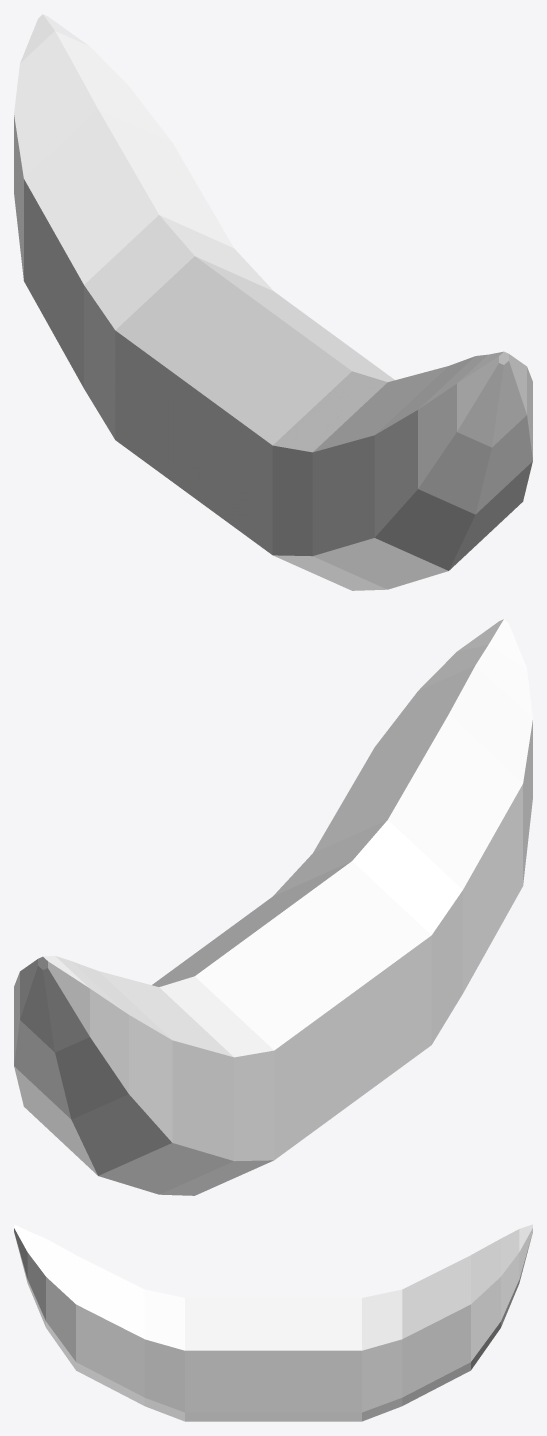
File: Banana.fbx
3 renders of one model, top to bottom at view 1: azimuth 30°, elevation 25°; view 2: azimuth 150°, elevation 25°; view 3: azimuth 270°, elevation 25°, orthographic. The views are drawn at different scales.
Visible parts, largest first — view 1: Banana; view 2: Banana; view 3: Banana.
Part boxes in pixels (x1,y1,x2,y2): Banana: [14, 14, 532, 590]; Banana: [14, 619, 532, 1195]; Banana: [14, 1224, 532, 1421].
Size of the model in its own units: 12.87 by 27.11 by 64.63.
